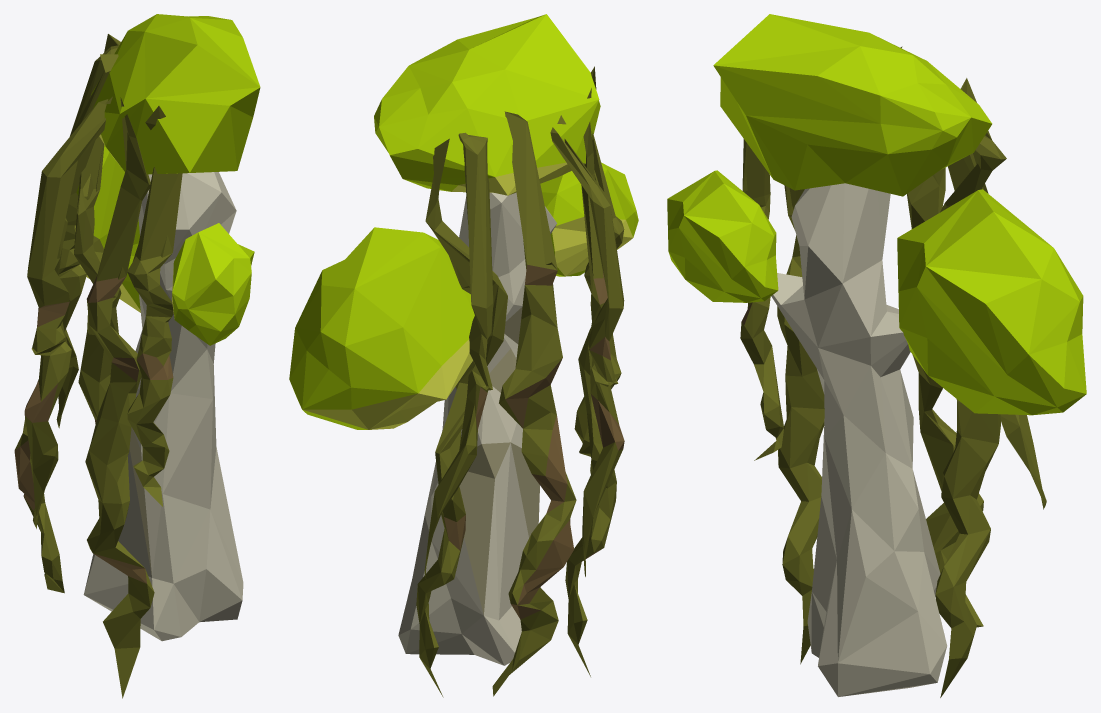
File: tree_04.fbx
The picture shows the model from 3 angles, left to right: view 1: azimuth 30°, elevation 25°; view 2: azimuth 150°, elevation 25°; view 3: azimuth 270°, elevation 25°; orthographic projection. The views are drawn at different scales.
Visible parts, largest first — view 1: tree_05Merged_PM3D_Sphere3D2_5, tree_05Merged_PM3D_Sphere3D1_4, tree_05PM3D_Sphereinder3D; view 2: tree_05Merged_PM3D_Sphere3D1_4, tree_05Merged_PM3D_Sphere3D2_5, tree_05PM3D_Sphereinder3D; view 3: tree_05Merged_PM3D_Sphere3D1_4, tree_05PM3D_Sphereinder3D, tree_05Merged_PM3D_Sphere3D2_5.
Part boxes in pixels (x1,y1,x2,y2): tree_05Merged_PM3D_Sphere3D2_5: (14,34,182,698); tree_05Merged_PM3D_Sphere3D1_4: (74,14,260,345); tree_05PM3D_Sphereinder3D: (83,172,243,641); tree_05Merged_PM3D_Sphere3D1_4: (289,14,638,429); tree_05Merged_PM3D_Sphere3D2_5: (416,66,624,697); tree_05PM3D_Sphereinder3D: (398,192,557,665); tree_05Merged_PM3D_Sphere3D1_4: (667,14,1086,415); tree_05PM3D_Sphereinder3D: (771,183,947,696); tree_05Merged_PM3D_Sphere3D2_5: (740,46,1046,697).
Size of the model in its own units: 710 by 1709 by 953.
